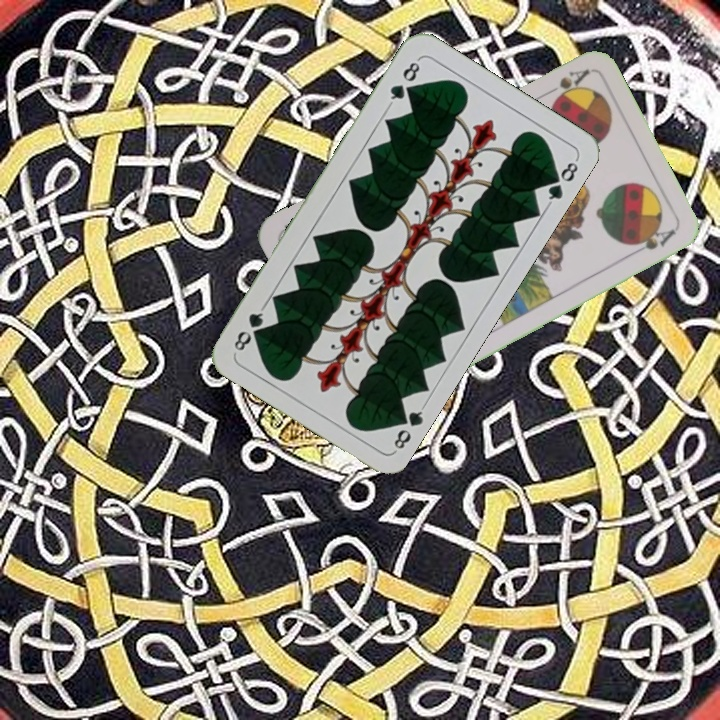G8: (389, 401, 428, 455), (385, 55, 423, 108)
SA: (537, 65, 592, 105)
